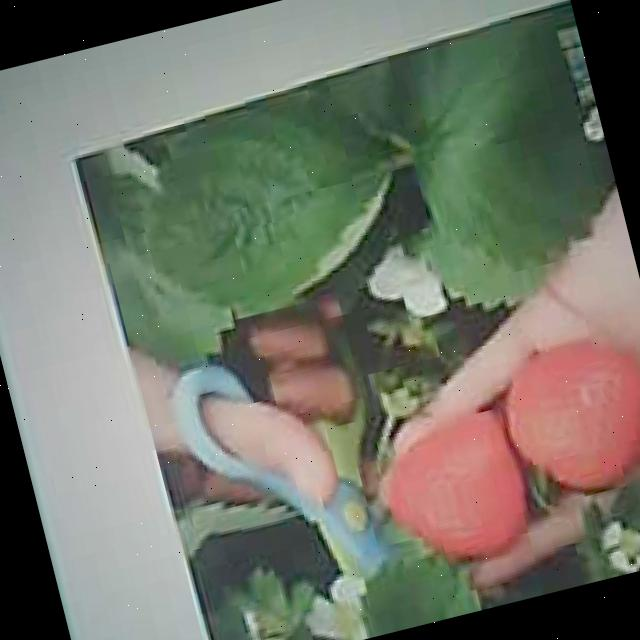strawberry: (372, 404, 533, 575), (494, 331, 640, 508)
